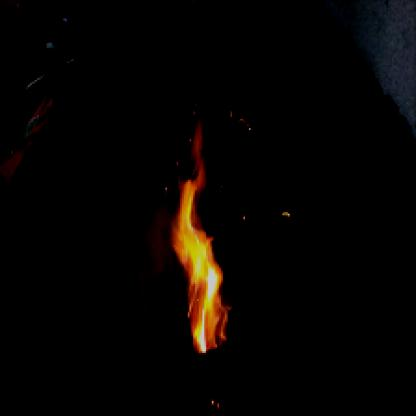Fire: (163, 104, 238, 360)
